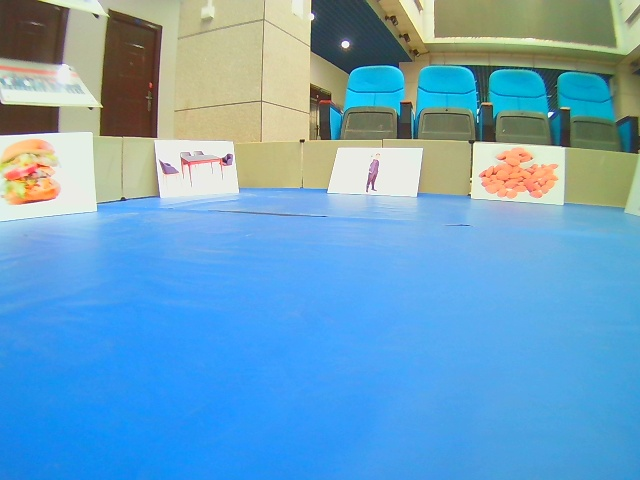food: (2, 133, 97, 225), (472, 143, 567, 205)
person: (327, 148, 423, 196)
table: (155, 139, 241, 194)
